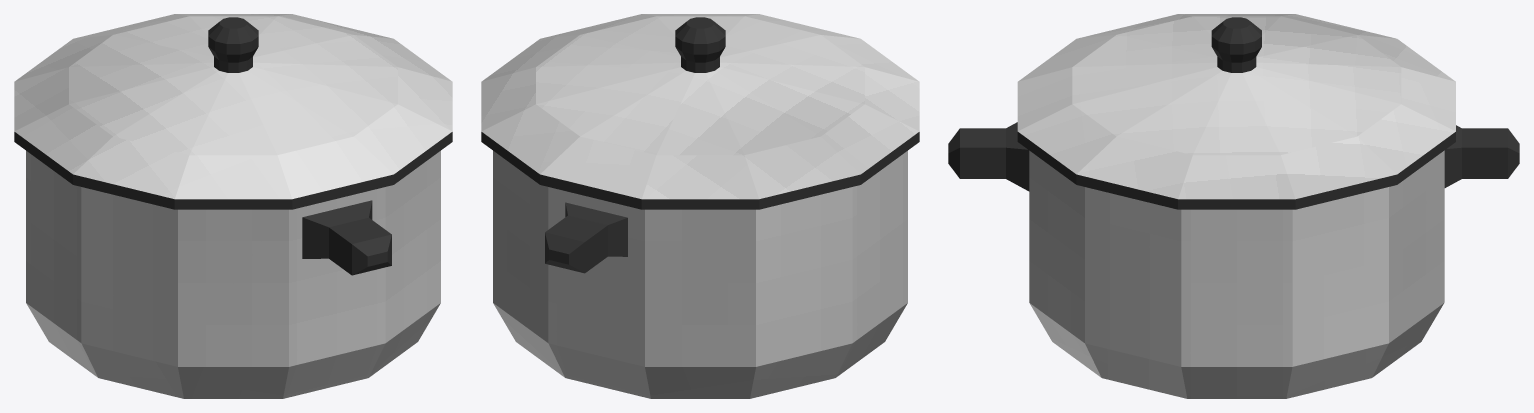
Rendered from garnek2.fbx.
3 renders of one model, left to right at view 1: azimuth 30°, elevation 25°; view 2: azimuth 150°, elevation 25°; view 3: azimuth 270°, elevation 25°, orthographic.
Parts seen in each view (by area): view 1: garnek, head, rączka; view 2: garnek, head, rączka_1; view 3: garnek, head, rączka, rączka_1.
Part boxes in pixels (<box>): garnek: <box>26,151,440,398</box>; head: <box>14,14,452,209</box>; rączka: <box>302,200,391,275</box>; garnek: <box>493,151,907,398</box>; head: <box>481,14,919,209</box>; rączka_1: <box>545,202,627,273</box>; garnek: <box>1029,150,1444,398</box>; head: <box>1017,14,1455,209</box>; rączka: <box>948,122,1029,191</box>; rączka_1: <box>1444,125,1519,187</box>.
Size of the model in its own units: 59.38 by 44.53 by 77.34.
Materials: 3 (3 with a texture image).
